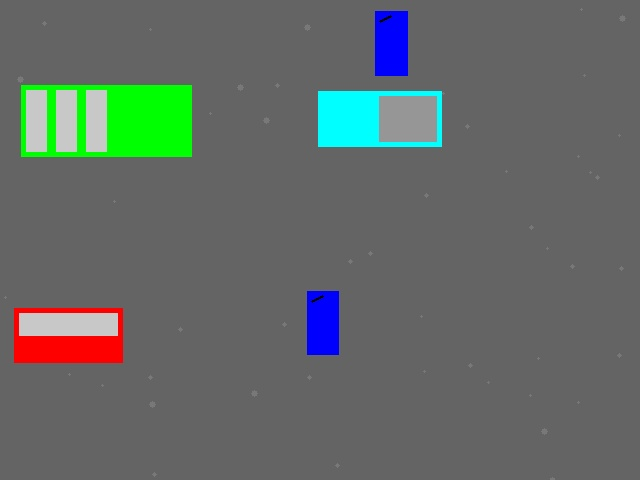bus: (21, 85, 191, 156)
car: (14, 308, 122, 362)
motorcycle: (375, 11, 407, 75), (307, 291, 338, 354)
truck: (318, 91, 441, 146)
